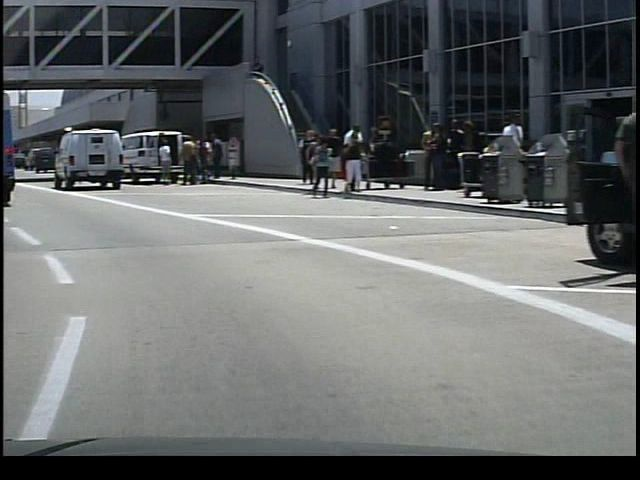person: (488, 107, 522, 204), (337, 122, 365, 193), (337, 135, 361, 196), (201, 132, 222, 181), (152, 135, 171, 188), (176, 136, 195, 188)
